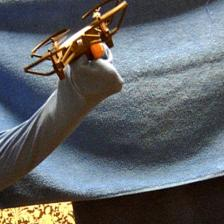drone: (23, 0, 127, 82)
